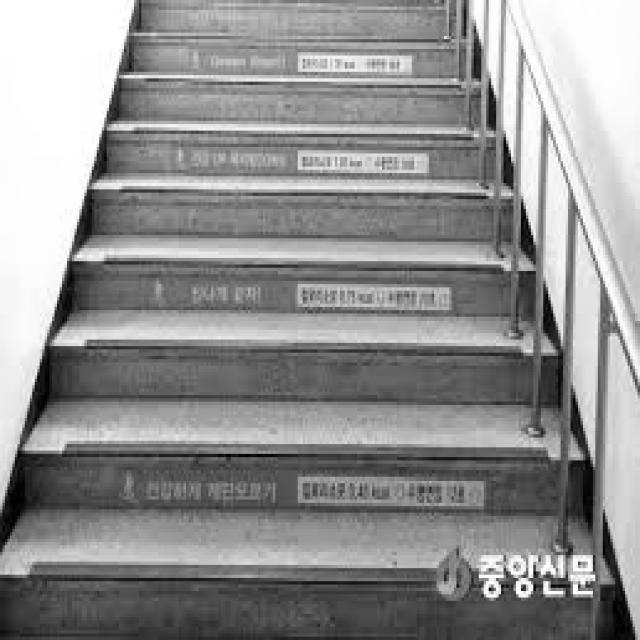stair: (2, 0, 619, 584), (0, 233, 614, 582), (22, 232, 590, 513), (53, 233, 561, 404)
